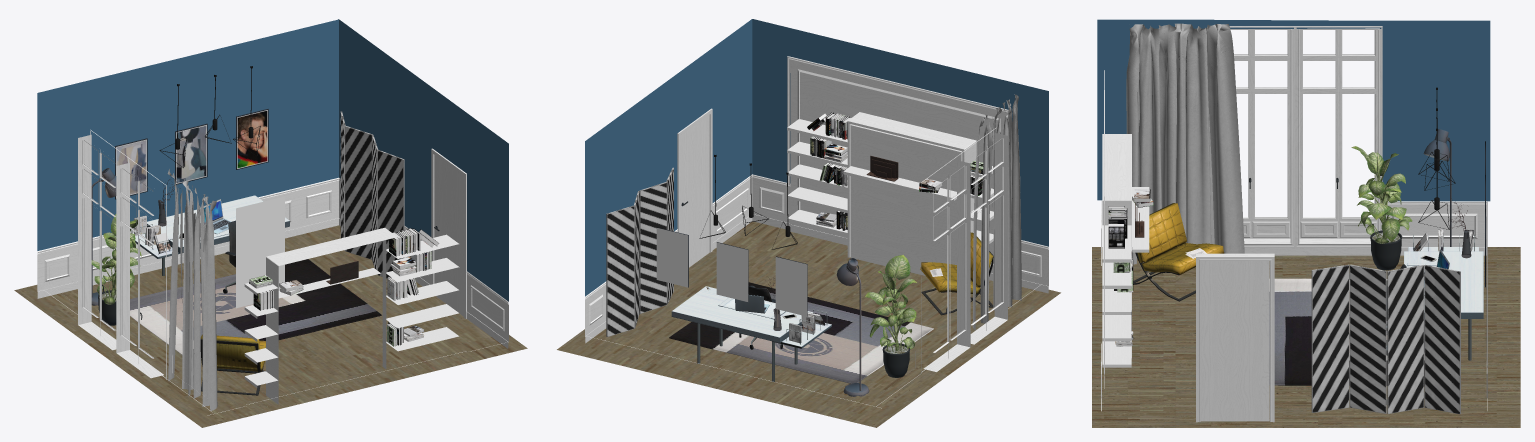
The model's file is Env_SwankyOffice.gltf.
3 renders of one model, left to right at view 1: azimuth 30°, elevation 25°; view 2: azimuth 150°, elevation 25°; view 3: azimuth 270°, elevation 25°, orthographic. The views are drawn at different scales.
Parts seen in each view (by area): view 1: Walls, WoodWallBase, Floor, ChamferBox081, Curtain, Separè, ArtFrames, Sindu, Books, Loungechair, Amoena, Desk (+4 smaller); view 2: WoodWallBase, Walls, Floor, ChamferBox081, Separè, ArtFrames, Curtain, Desk, Amoena, Books, Loungechair, Lamp (+3 smaller); view 3: WoodWallBase, Floor, Walls, Curtain, Separè, ChamferBox081, Amoena, Loungechair, Desk, Books, StylishLight, Lamp.
Boxes of the visible parts, x1,y1,x2,y2 form: Walls: (37, 19, 508, 301); WoodWallBase: (37, 129, 508, 415); Floor: (14, 225, 527, 427); ChamferBox081: (130, 259, 381, 358); Curtain: (167, 169, 217, 410); Separè: (340, 111, 404, 278); ArtFrames: (115, 109, 268, 199); Sindu: (236, 196, 284, 308); Books: (249, 228, 438, 346); Loungechair: (200, 334, 265, 395); Amoena: (91, 214, 141, 325); Desk: (131, 195, 289, 275); WoodWallBase: (585, 56, 1048, 408); Walls: (585, 19, 1048, 296); Floor: (557, 221, 1060, 427); ChamferBox081: (669, 282, 933, 383); Separè: (606, 167, 673, 336); ArtFrames: (656, 227, 807, 316); Curtain: (972, 94, 1021, 330); Desk: (671, 286, 831, 381); Amoena: (865, 254, 916, 377); Books: (807, 112, 983, 230); Loungechair: (920, 232, 993, 315); Lamp: (836, 258, 869, 396); WoodWallBase: (1101, 26, 1487, 422); Floor: (1092, 247, 1520, 427); Walls: (1097, 19, 1490, 201); Curtain: (1126, 23, 1244, 264); Separè: (1311, 264, 1460, 414); ChamferBox081: (1269, 278, 1424, 385); Amoena: (1351, 146, 1412, 270); Loungechair: (1133, 203, 1224, 301); Desk: (1404, 234, 1483, 360); Books: (1108, 189, 1153, 346); StylishLight: (1418, 87, 1455, 229); Lamp: (1423, 129, 1451, 246).
Size of the model in its own units: 4.91 by 3.03 by 4.93.
26 materials, 25 textured.
